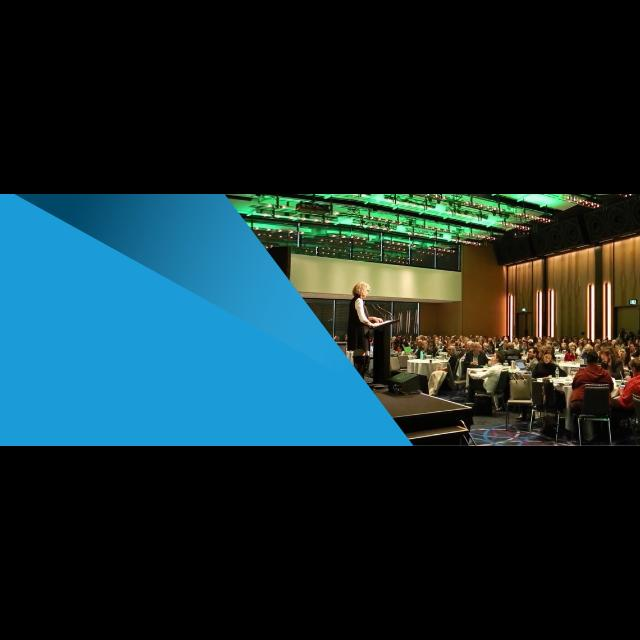head: (586, 352, 600, 368), (600, 350, 614, 366), (490, 352, 506, 364), (358, 284, 370, 298), (542, 352, 554, 364), (472, 343, 482, 355), (528, 348, 538, 360), (447, 346, 457, 356)
person: (346, 280, 386, 392), (516, 350, 568, 424), (464, 350, 506, 420), (595, 348, 627, 408), (426, 345, 458, 399), (512, 346, 542, 402), (463, 342, 493, 396)
